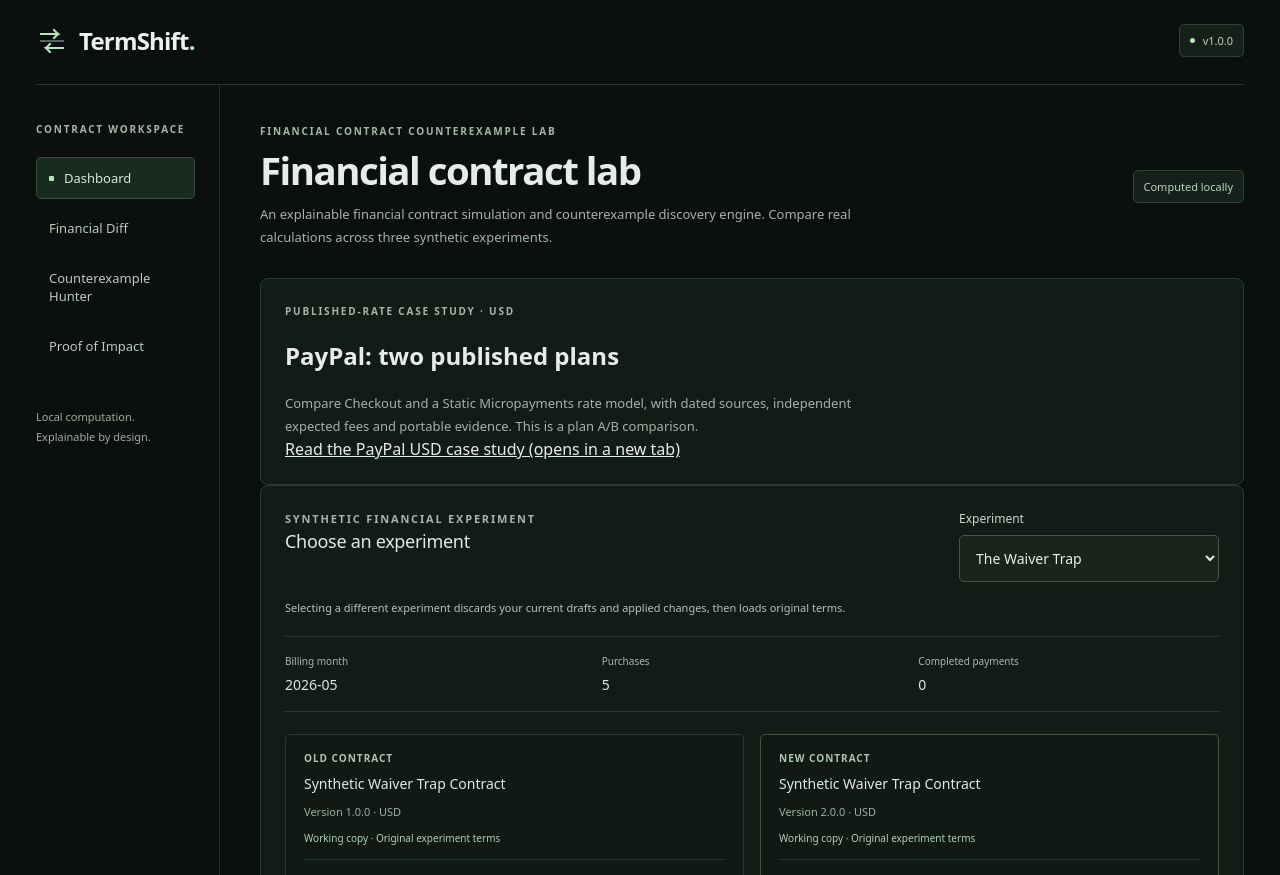
Test case: Financial Diff navigation and shared workspace › uses the real default comparison and same Scenario for The Grace Period Shift
Click the button "Financial Diff" at [116, 228], box [36,207,195,249]
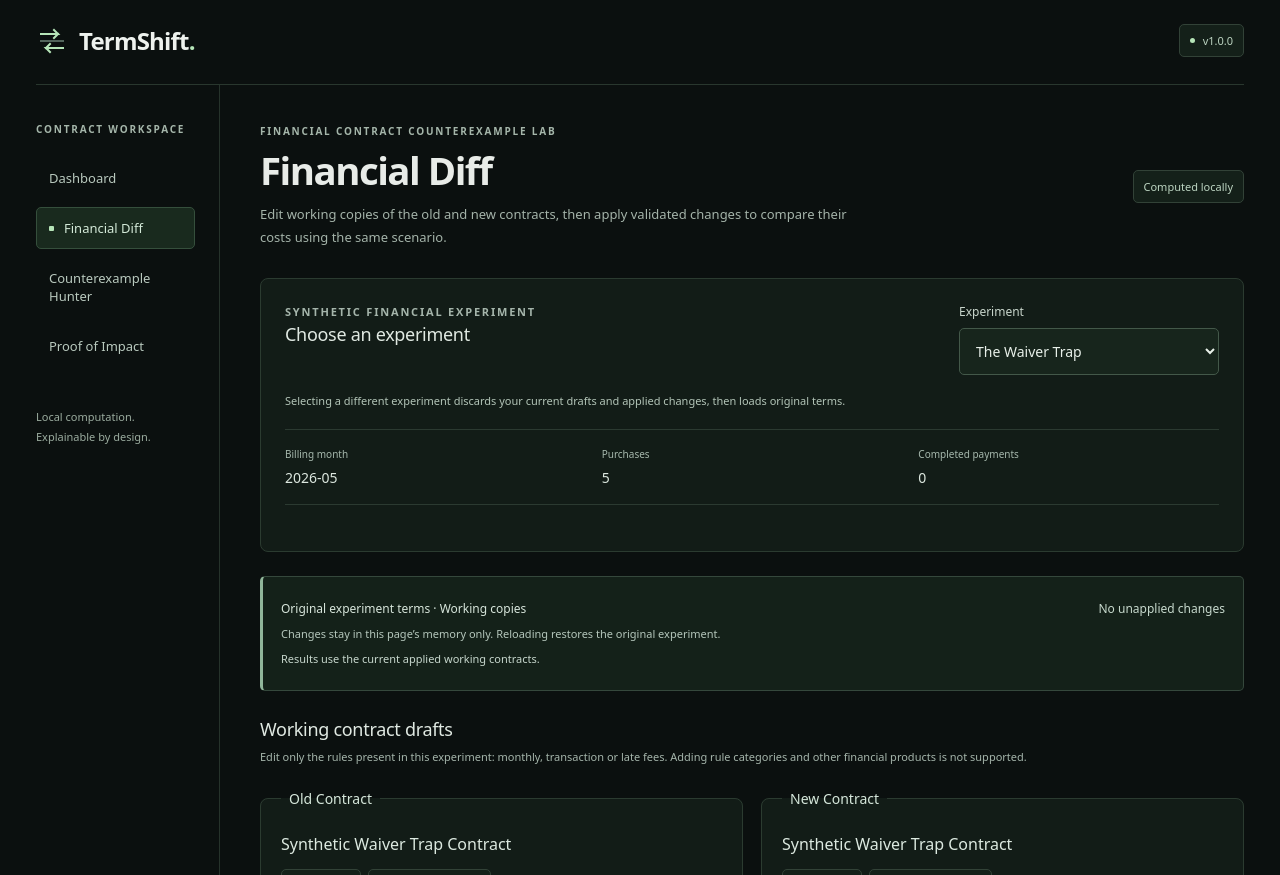
Select "The Grace Period Shift" in the dropdown labelled "Experiment" at [1089, 351], box [959,328,1219,375]
(page scrolled)
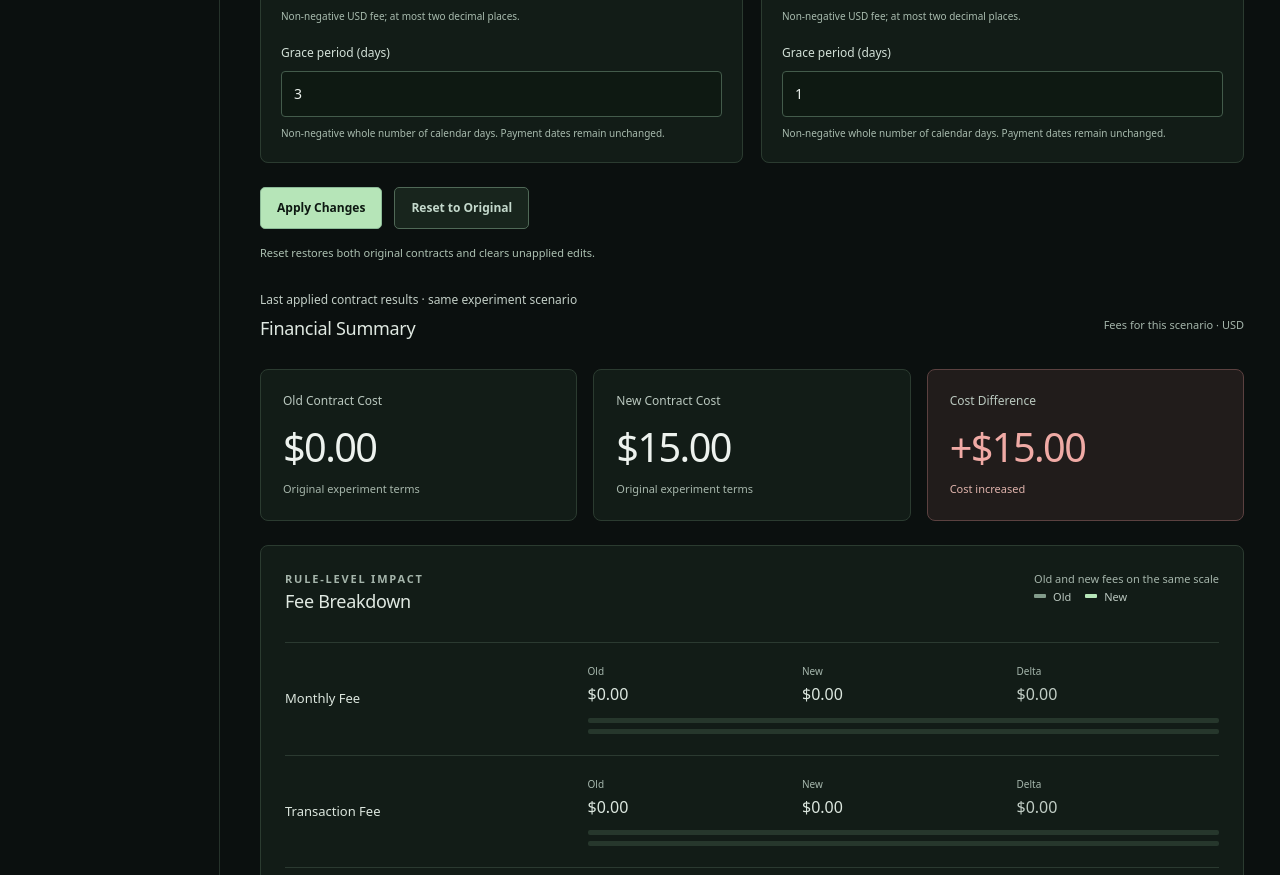
Expected: the text "$0.00" below "Old Contract Cost" is shown, [283,420,376,474]
Expected: the text "$15.00" is shown, [616,420,731,474]
Expected: the text "+$15.00" is shown, [950,420,1085,474]
